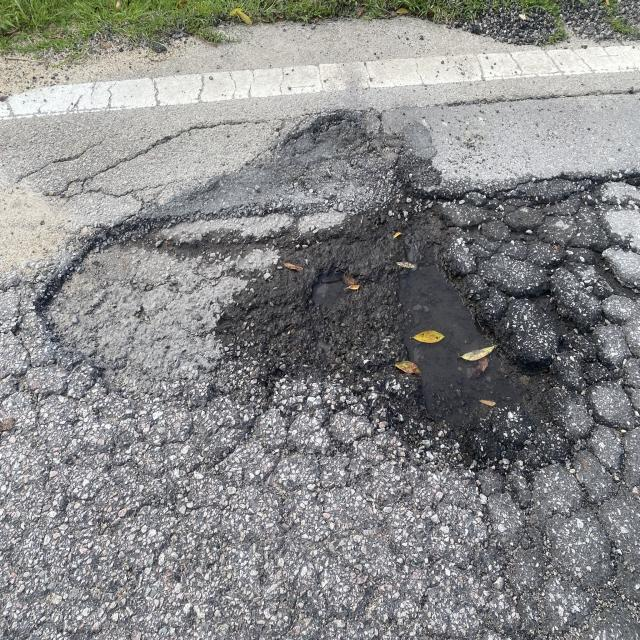Pothole: (24, 95, 637, 508)
